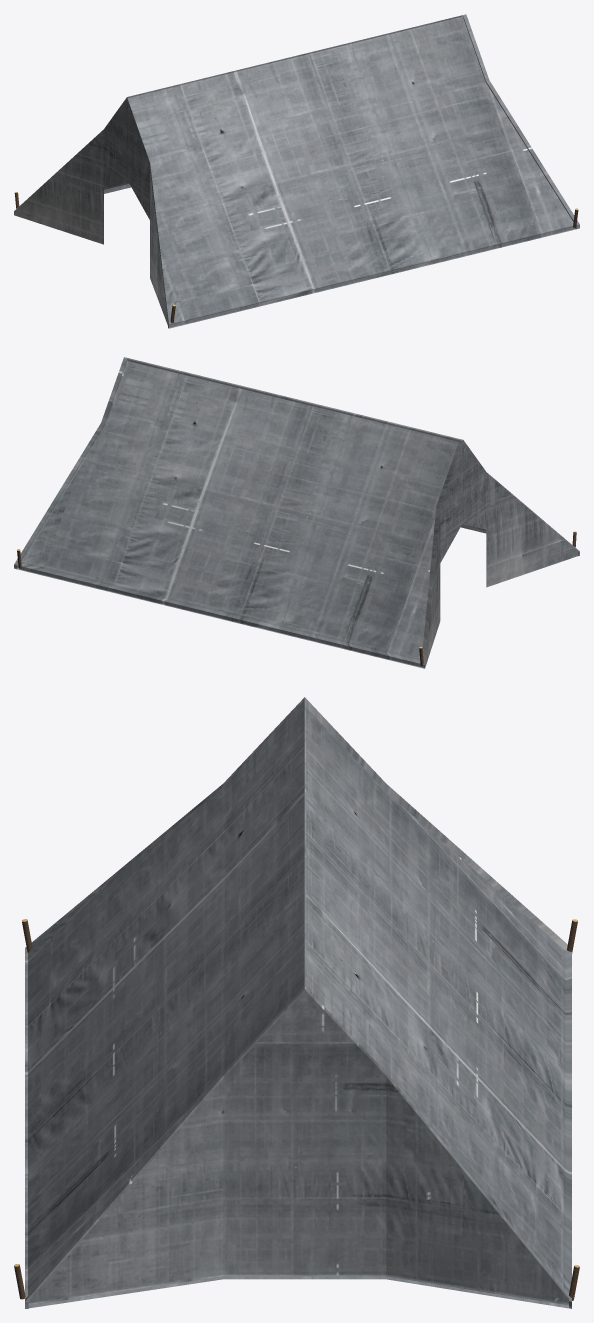
Rendered from Tent_2.fbx.
3 views of the same model, one above another, from view 1: azimuth 30°, elevation 25°; view 2: azimuth 150°, elevation 25°; view 3: azimuth 270°, elevation 25° (orthographic). The views are drawn at different scales.
Parts seen in each view (by area): view 1: Cube; view 2: Cube; view 3: Cube.
Boxes of the visible parts, x1,y1,x2,y2 form: Cube: [14, 14, 579, 328]; Cube: [14, 357, 579, 668]; Cube: [25, 697, 571, 1308].
Bounding box in the file's own units: 1028 × 393 × 695.
